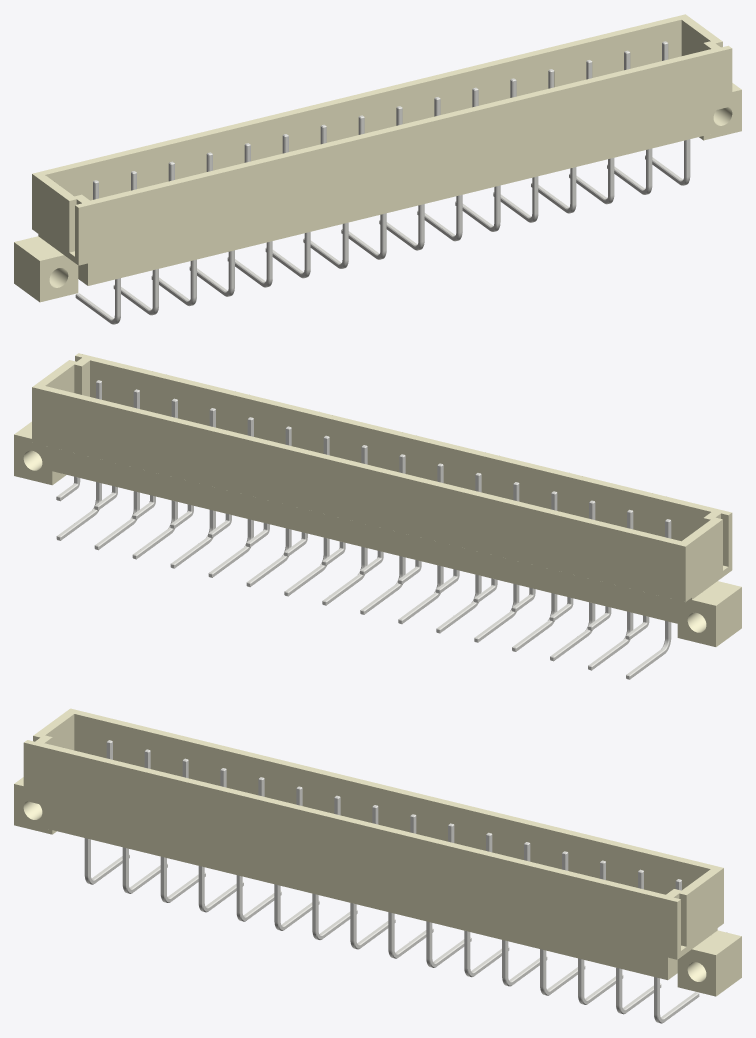
File: DIN41612_C_2x16_Male_Horizontal_THT.glb
3 views of the same model, one above another, from view 1: azimuth 30°, elevation 25°; view 2: azimuth 150°, elevation 25°; view 3: azimuth 330°, elevation 25° (orthographic).
Visible parts, largest first — view 1: Shape_IndexedFaceSet, Shape_IndexedFaceSet.026, Shape_IndexedFaceSet.009, Shape_IndexedFaceSet.005, Shape_IndexedFaceSet.006, Shape_IndexedFaceSet.008, Shape_IndexedFaceSet.034, Shape_IndexedFaceSet.038, Shape_IndexedFaceSet.031, Shape_IndexedFaceSet.027; view 2: Shape_IndexedFaceSet.017, Shape_IndexedFaceSet.022, Shape_IndexedFaceSet.015, Shape_IndexedFaceSet.005, Shape_IndexedFaceSet.006, Shape_IndexedFaceSet.034, Shape_IndexedFaceSet.031; view 3: Shape_IndexedFaceSet, Shape_IndexedFaceSet.026, Shape_IndexedFaceSet.009, Shape_IndexedFaceSet.005, Shape_IndexedFaceSet.004, Shape_IndexedFaceSet.038, Shape_IndexedFaceSet.039, Shape_IndexedFaceSet.008, Shape_IndexedFaceSet.014, Shape_IndexedFaceSet.025.
Boxes of the visible parts, bbox=[...] form: Shape_IndexedFaceSet: bbox=[78, 48, 732, 265]; Shape_IndexedFaceSet.026: bbox=[45, 19, 681, 200]; Shape_IndexedFaceSet.009: bbox=[88, 111, 713, 285]; Shape_IndexedFaceSet.005: bbox=[32, 14, 731, 207]; Shape_IndexedFaceSet.006: bbox=[32, 174, 78, 265]; Shape_IndexedFaceSet.008: bbox=[40, 255, 78, 302]; Shape_IndexedFaceSet.034: bbox=[14, 242, 39, 302]; Shape_IndexedFaceSet.038: bbox=[703, 90, 741, 140]; Shape_IndexedFaceSet.031: bbox=[14, 236, 63, 260]; Shape_IndexedFaceSet.027: bbox=[681, 20, 710, 55]; Shape_IndexedFaceSet.017: bbox=[32, 387, 685, 601]; Shape_IndexedFaceSet.022: bbox=[90, 360, 710, 541]; Shape_IndexedFaceSet.015: bbox=[14, 434, 715, 646]; Shape_IndexedFaceSet.005: bbox=[32, 353, 731, 546]; Shape_IndexedFaceSet.006: bbox=[685, 513, 732, 601]; Shape_IndexedFaceSet.034: bbox=[716, 587, 741, 646]; Shape_IndexedFaceSet.031: bbox=[692, 581, 741, 605]; Shape_IndexedFaceSet: bbox=[23, 742, 677, 959]; Shape_IndexedFaceSet.026: bbox=[74, 714, 710, 894]; Shape_IndexedFaceSet.009: bbox=[42, 805, 667, 980]; Shape_IndexedFaceSet.005: bbox=[24, 708, 723, 901]; Shape_IndexedFaceSet.004: bbox=[677, 868, 723, 959]; Shape_IndexedFaceSet.038: bbox=[677, 949, 715, 996]; Shape_IndexedFaceSet.039: bbox=[716, 936, 741, 996]; Shape_IndexedFaceSet.008: bbox=[14, 784, 52, 834]; Shape_IndexedFaceSet.014: bbox=[692, 930, 741, 954]; Shape_IndexedFaceSet.025: bbox=[45, 714, 74, 750].
Size of the model in its own units: 37.01 by 7.11 by 4.81.
